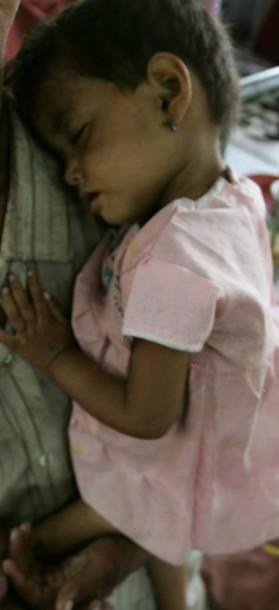Stunting: (5, 2, 248, 228)
